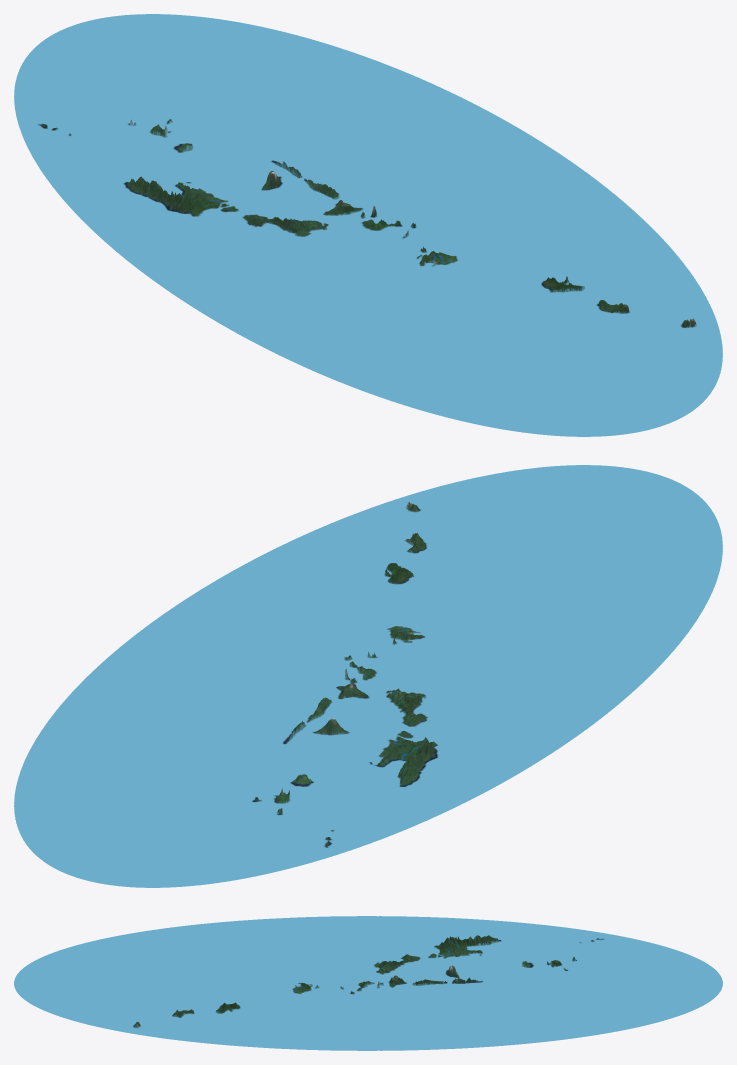
The model's file is VUT-previa-terrain.glb.
3 views of the same model, one above another, from view 1: azimuth 30°, elevation 25°; view 2: azimuth 150°, elevation 25°; view 3: azimuth 270°, elevation 25° (orthographic). The views are drawn at different scales.
Parts seen in each view (by area): view 1: Vanuatu; view 2: Vanuatu; view 3: Vanuatu.
Boxes of the visible parts, x1,y1,x2,y2 form: Vanuatu: [14, 14, 722, 436]; Vanuatu: [14, 465, 722, 887]; Vanuatu: [14, 916, 722, 1050].
Size of the model in its own units: 1.19 by 0.0373 by 2.64.
Materials: 1 (1 with a texture image).
